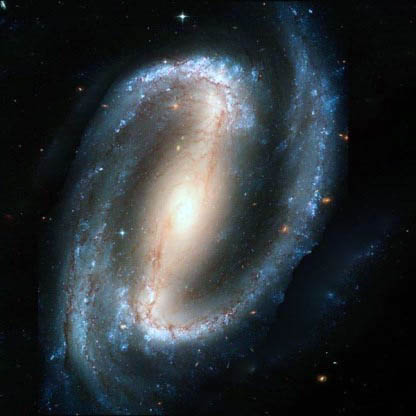NGC 1300: (43, 7, 340, 416)
